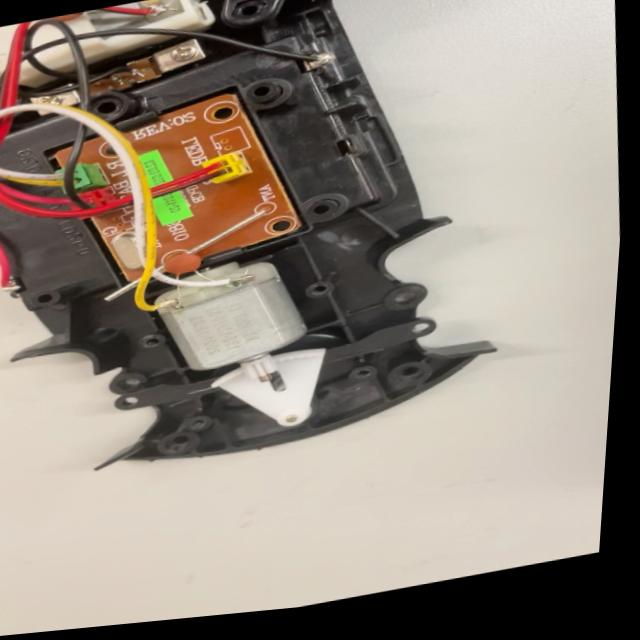motor: (155, 259, 305, 405)
